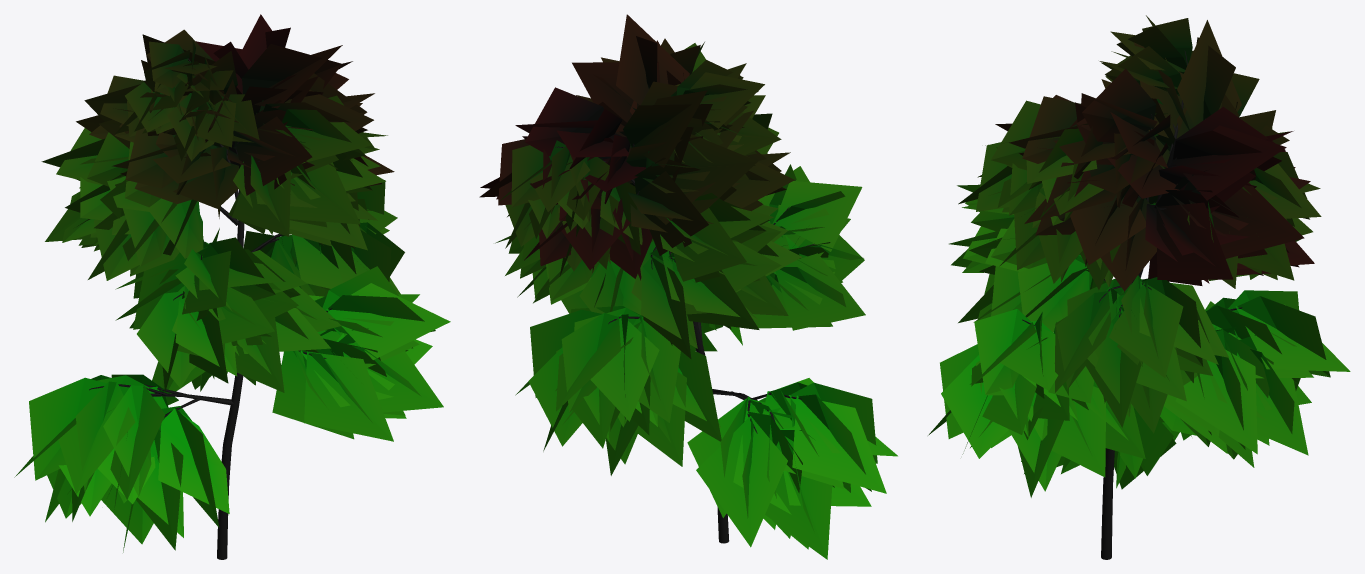
The model's file is birch_tree_7.FBX.
3 views of the same model, side by side, from view 1: azimuth 30°, elevation 25°; view 2: azimuth 150°, elevation 25°; view 3: azimuth 270°, elevation 25° (orthographic). The views are drawn at different scales.
Parts seen in each view (by area): view 1: birch_leaves_lod_0, birch_trunk_lod_0, birch_twigs; view 2: birch_leaves_lod_0, birch_twigs, birch_trunk_lod_0; view 3: birch_leaves_lod_0, birch_trunk_lod_0.
Part boxes in pixels (x1,y1,x2,y2): birch_leaves_lod_0: (14, 14, 450, 552); birch_trunk_lod_0: (217, 189, 244, 559); birch_twigs: (89, 51, 332, 417); birch_leaves_lod_0: (479, 14, 897, 559); birch_twigs: (555, 143, 814, 433); birch_trunk_lod_0: (693, 321, 729, 543); birch_leaves_lod_0: (928, 15, 1350, 497); birch_trunk_lod_0: (1101, 138, 1176, 559).
Size of what is drawn, in the model's own units: 2.77 by 3.41 by 2.48.
